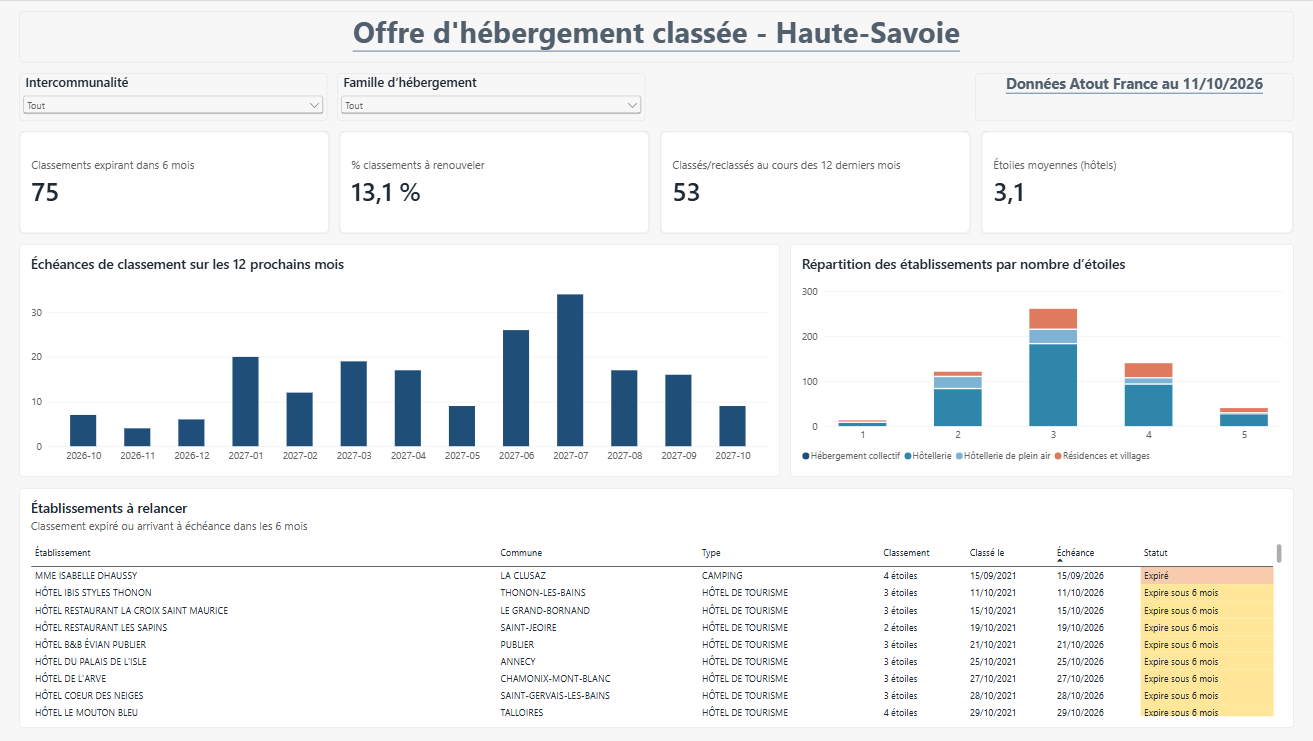

What the dashboard file says about the page in this screenshot:
{"tool":"powerbi","page":{"name":"Classements","canvas":[1920,1080],"ordinal":2},"visuals":[{"type":"textbox","box":[30,15,1860,75],"z":0},{"type":"slicer","fields":{"Values":["dim_typologie.famille"]},"box":[495,105,450,70],"z":1000},{"type":"slicer","fields":{"Values":["dim_commune.nom_epci"]},"box":[31,105,450,70],"z":2000},{"type":"cardVisual","fields":{"Data":["Mesures.Classements expirant dans 6 mois"]},"box":[30,190,453,150],"z":3000},{"type":"cardVisual","fields":{"Data":["Mesures.% classements à renouveler"]},"box":[498,190,453,150],"z":4000},{"type":"cardVisual","fields":{"Data":["Mesures.Classements sur 12 mois glissants"]},"box":[966,190,453,150],"z":5000},{"type":"cardVisual","fields":{"Data":["select","Mesures.Étoiles moyennes (hôtels)"]},"box":[1434,190,456,150],"z":6000},{"type":"clusteredColumnChart","title":"Échéances de classement sur les 12 prochains mois","fields":{"Category":["fct_hebergements_classes.Mois d'échéance"],"Y":["Mesures.Établissements"]},"box":[30.6,355,1110,340],"z":7000},{"type":"columnChart","title":"Répartition des établissements par nombre d’étoiles","fields":{"Category":["fct_hebergements_classes.nb_etoiles"],"Series":["dim_typologie.famille"],"Y":["Mesures.Établissements"]},"box":[1155,355,735,340],"z":8000},{"type":"tableEx","title":"Établissements à relancer","fields":{"Values":["fct_hebergements_classes.nom_commercial","fct_hebergements_classes.commune_source","fct_hebergements_classes.typologie","fct_hebergements_classes.classement","fct_hebergements_classes.date_classement","fct_hebergements_classes.date_fin_validite","fct_hebergements_classes.statut_classement"]},"box":[30,710,1860,350],"z":9000},{"type":"textbox","box":[1425,105,465,70],"z":9001}]}

Visuals, with their boxes in screenshot pixels (x1, y1, x2, y2), scaled from the page's 1920x1080 canvas onto the 1313x741 screenshot:
textbox: left=21, top=10, right=1292, bottom=62
slicer - dim_typologie.famille: left=339, top=72, right=646, bottom=120
slicer - dim_commune.nom_epci: left=21, top=72, right=329, bottom=120
cardVisual - Mesures.Classements expirant dans 6 mois: left=21, top=130, right=330, bottom=233
cardVisual - Mesures.% classements à renouveler: left=341, top=130, right=650, bottom=233
cardVisual - Mesures.Classements sur 12 mois glissants: left=661, top=130, right=970, bottom=233
cardVisual - select x Mesures.Étoiles moyennes (hôtels): left=981, top=130, right=1292, bottom=233
"Échéances de classement sur les 12 prochains mois" clusteredColumnChart: left=21, top=244, right=780, bottom=477
"Répartition des établissements par nombre d’étoiles" columnChart: left=790, top=244, right=1292, bottom=477
"Établissements à relancer" tableEx: left=21, top=487, right=1292, bottom=727
textbox: left=974, top=72, right=1292, bottom=120
